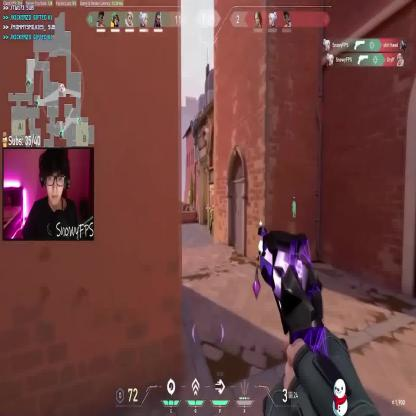enemy: (208, 203, 217, 234)
enemy_head: (211, 205, 214, 211)
